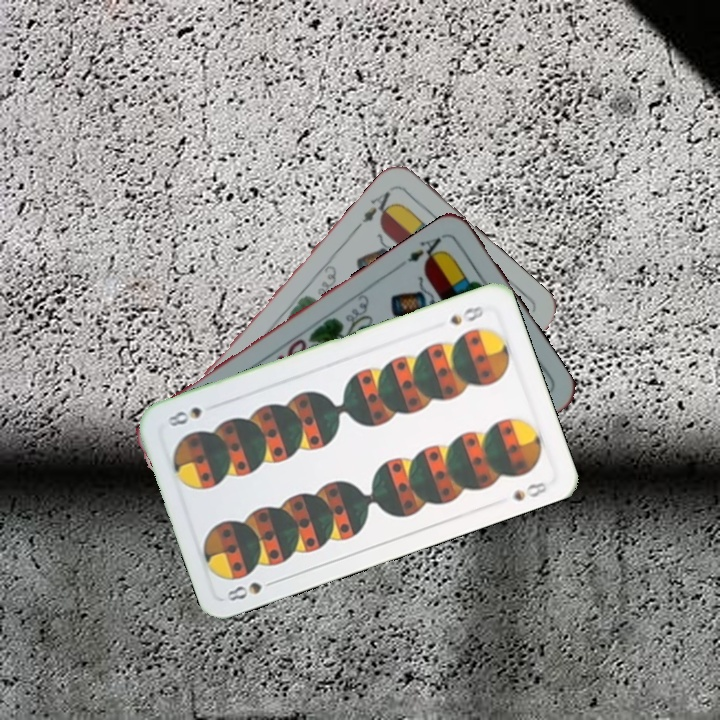EA: (352, 187, 399, 232), (403, 230, 449, 269)
S8: (222, 575, 280, 604), (446, 301, 486, 328)
